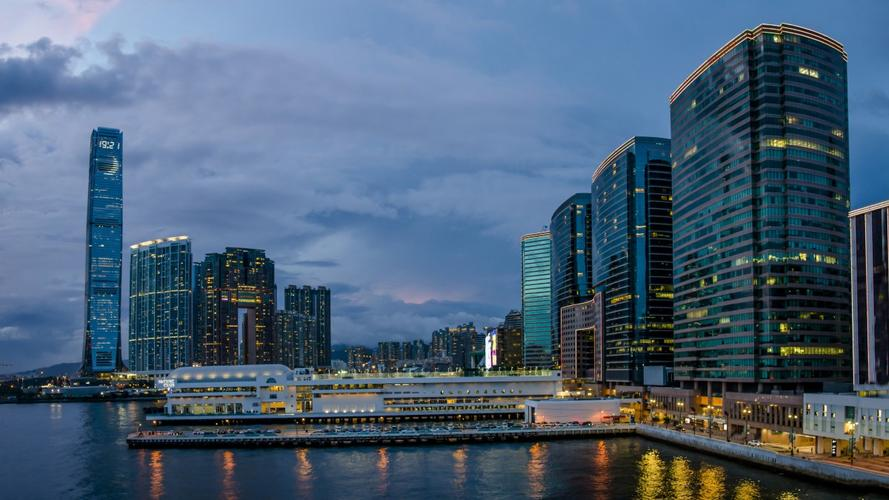buildings: (577, 46, 869, 408), (581, 116, 756, 418), (63, 119, 152, 380), (186, 238, 287, 383), (118, 229, 199, 379), (512, 212, 576, 383)
